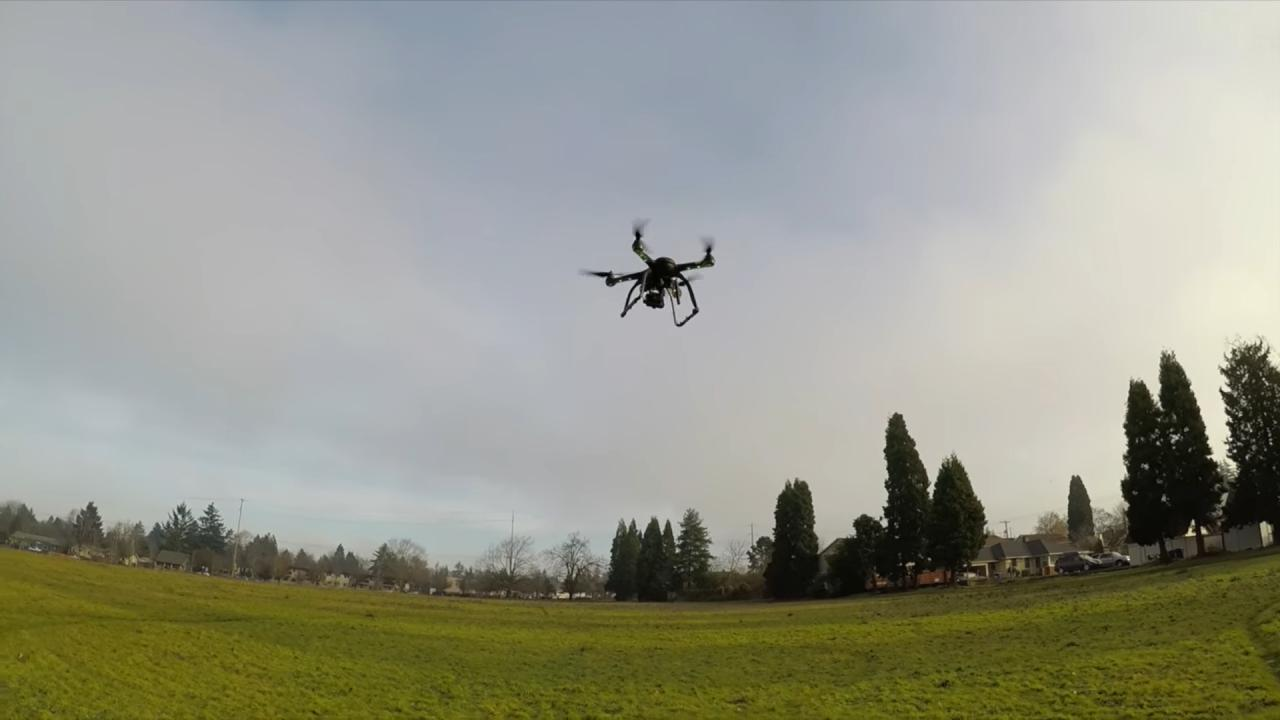Drone: (574, 208, 728, 336)
